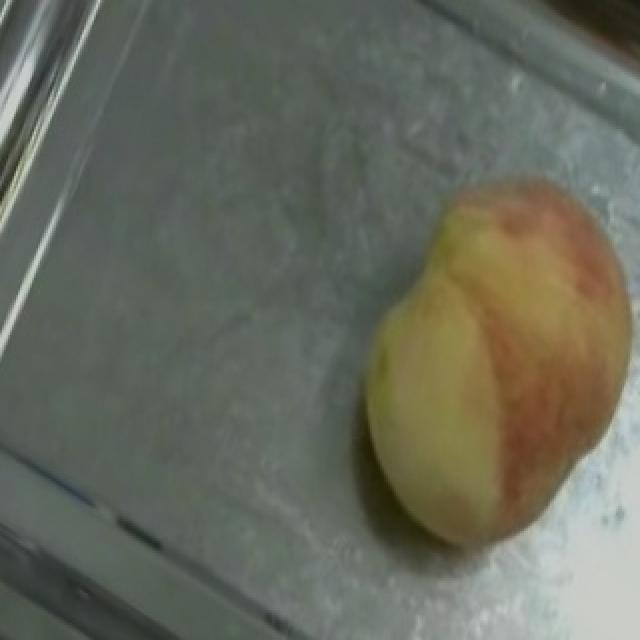Fruit: (346, 139, 640, 449)
